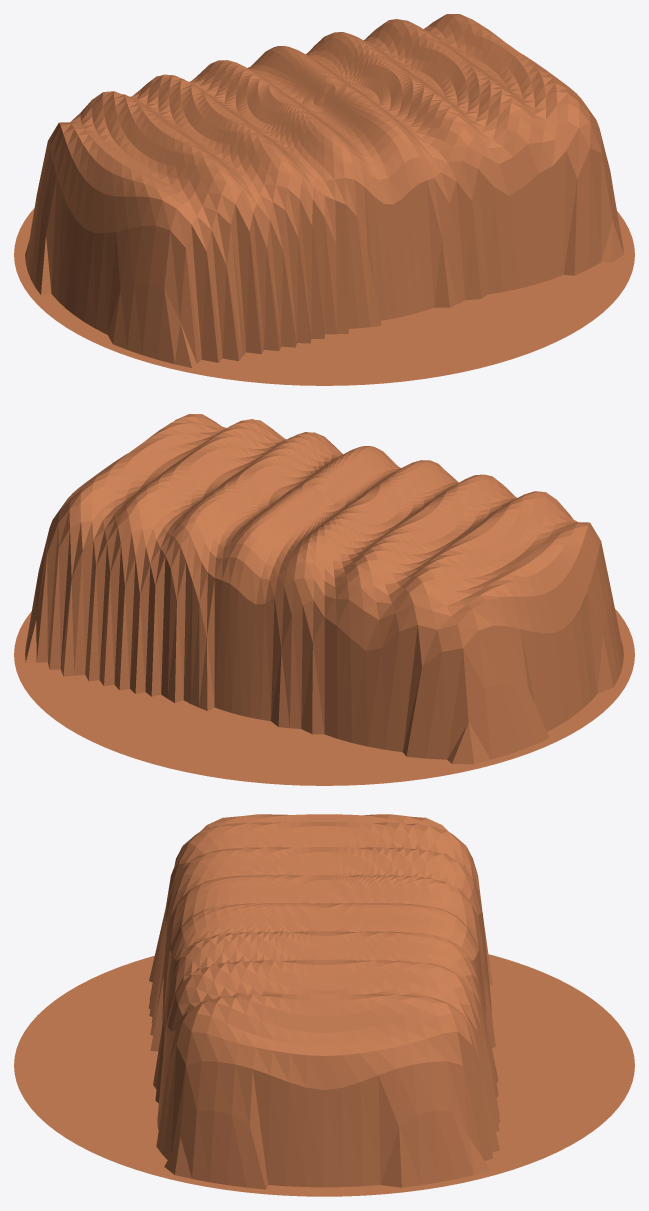
File: FEATURE_ULURU.fbx
The picture shows the model from 3 angles, top to bottom: view 1: azimuth 30°, elevation 25°; view 2: azimuth 150°, elevation 25°; view 3: azimuth 270°, elevation 25°; orthographic projection.
Parts seen in each view (by area): view 1: Sandstone_monolith; view 2: Sandstone_monolith; view 3: Sandstone_monolith.
Part boxes in pixels (x1,y1,x2,y2): Sandstone_monolith: [14, 14, 634, 385]; Sandstone_monolith: [14, 414, 634, 785]; Sandstone_monolith: [14, 814, 634, 1196].
Size of the model in its own units: 154 by 46 by 154.
